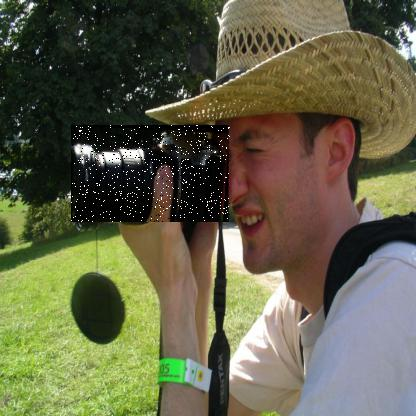Camera: (73, 126, 233, 224)
